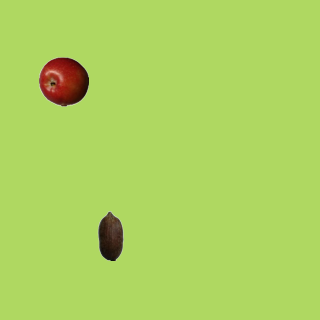Apple Braeburn: (38, 56, 88, 106)
Nut Pecan: (85, 210, 135, 260)
